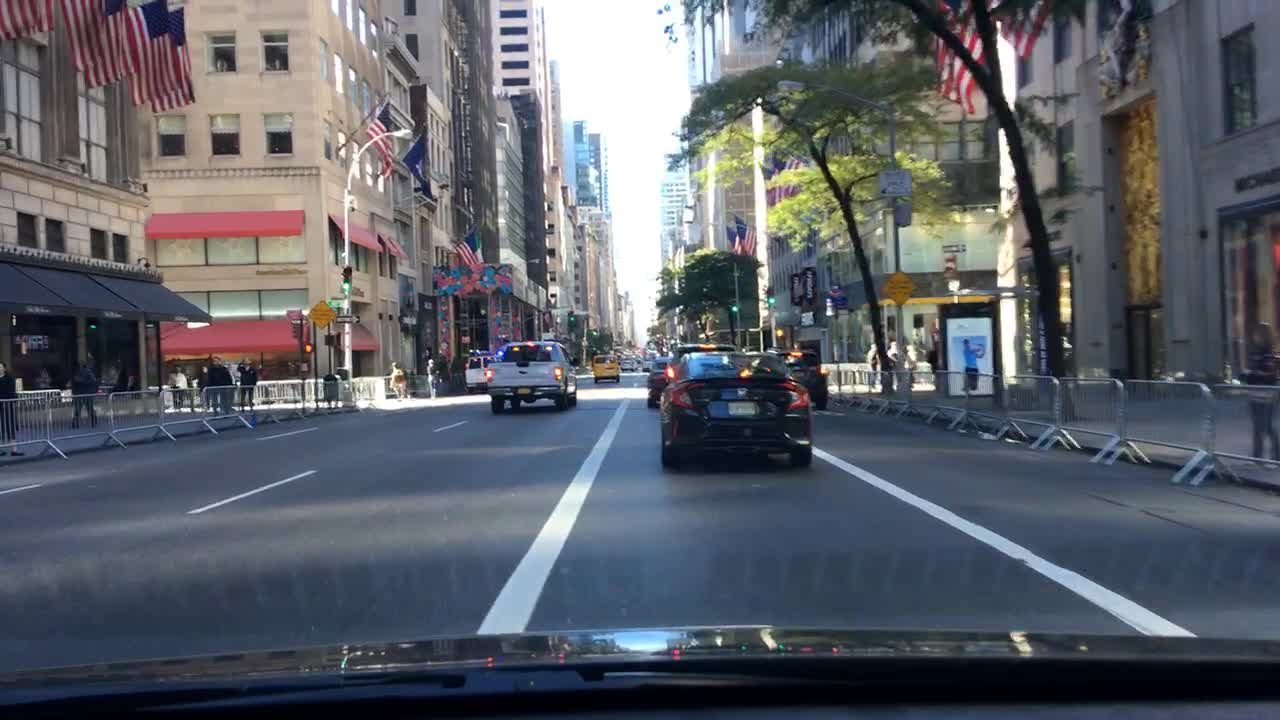car: (658, 349, 813, 468), (766, 344, 828, 411), (646, 357, 679, 407), (463, 354, 494, 393), (591, 353, 621, 384), (678, 342, 740, 355), (620, 358, 639, 373), (641, 359, 654, 373)
person: (1237, 320, 1279, 472), (0, 359, 26, 456), (69, 359, 100, 430), (210, 353, 235, 417), (961, 336, 986, 400), (237, 357, 259, 413), (166, 364, 188, 409), (389, 359, 408, 401), (426, 355, 443, 400), (866, 342, 881, 390), (323, 370, 339, 409), (924, 347, 939, 371), (197, 364, 210, 391)
traffic light: (341, 266, 351, 291), (766, 287, 776, 305), (302, 342, 314, 352), (730, 302, 739, 313), (568, 310, 574, 322), (592, 327, 598, 338)
traffic sign: (881, 271, 919, 303), (877, 167, 913, 198), (308, 298, 335, 329), (825, 282, 847, 307), (894, 200, 913, 226), (943, 253, 957, 271), (334, 315, 361, 322), (941, 244, 967, 251), (328, 299, 346, 308)
truck: (486, 340, 581, 413)
